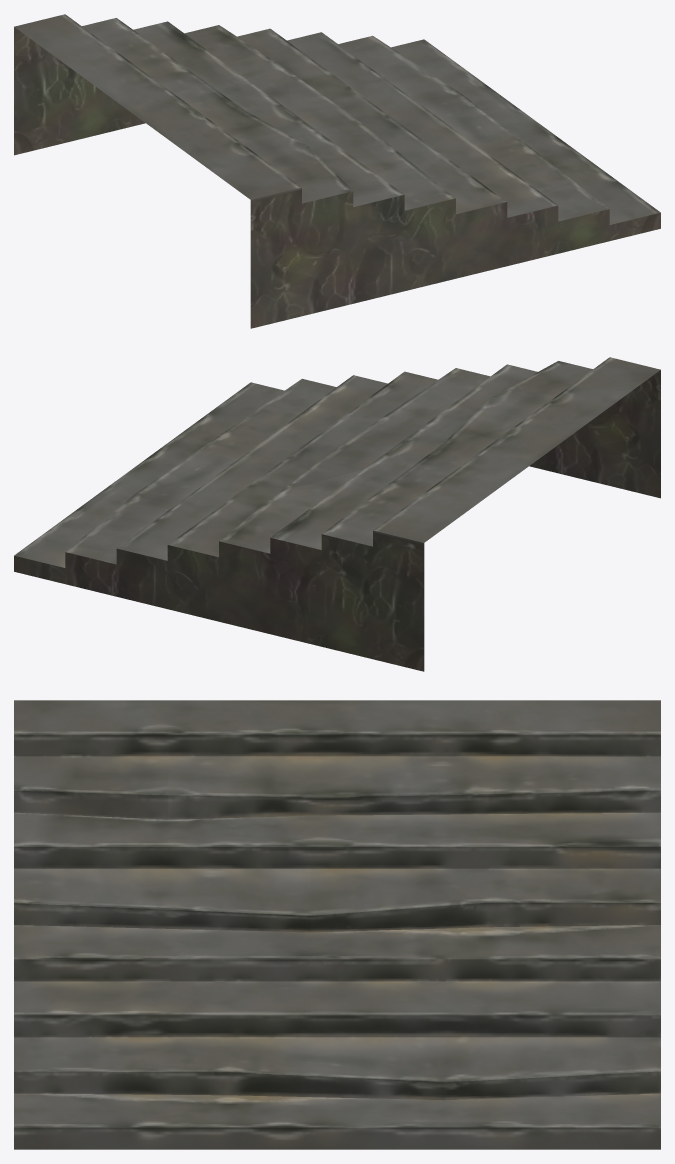
The model's file is Stairs_low.obj.
3 renders of one model, top to bottom at view 1: azimuth 30°, elevation 25°; view 2: azimuth 150°, elevation 25°; view 3: azimuth 270°, elevation 25°, orthographic. The views are drawn at different scales.
Visible parts, largest first — view 1: Stairs_low; view 2: Stairs_low; view 3: Stairs_low.
Boxes of the visible parts, left/top/right/bottom form: Stairs_low: left=14, top=14, right=660, bottom=328; Stairs_low: left=14, top=357, right=660, bottom=671; Stairs_low: left=14, top=700, right=660, bottom=1149.
Size of the model in its own units: 10 by 3 by 10.
